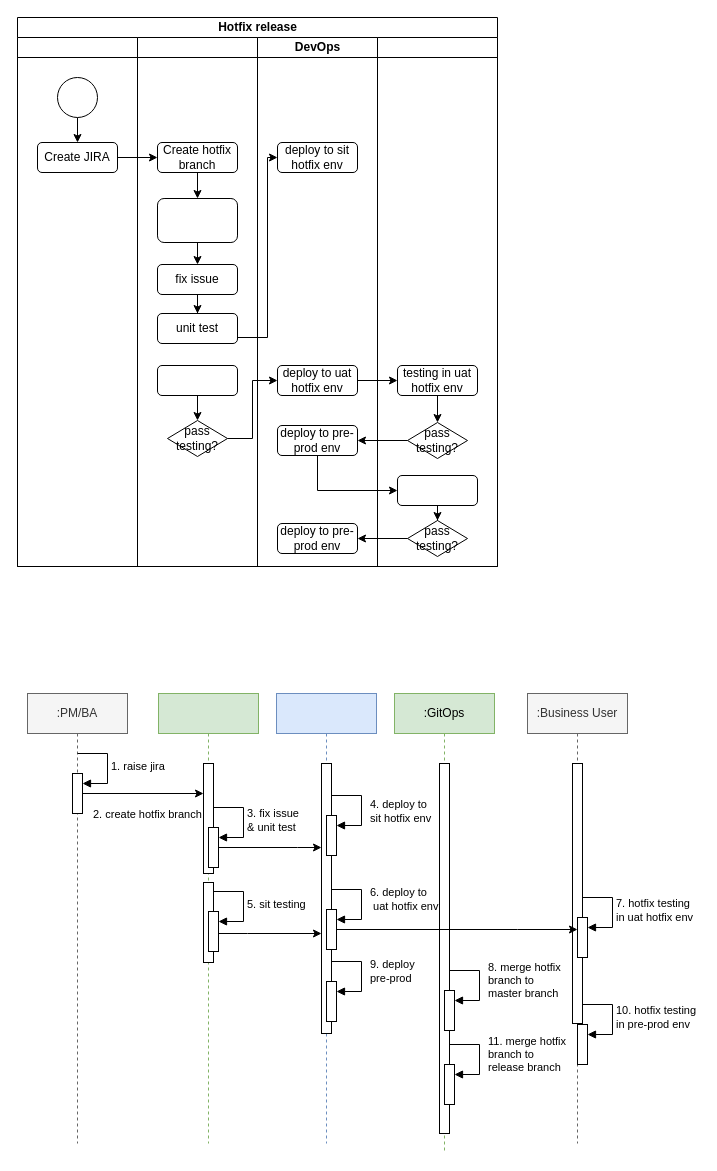
Image size: 717x1171. Some labels were removed from this diagram. The box of each missing label's shape, as (x1, y1, x2, y2) in pixels:
:Developer: (158, 692, 258, 1144)
:DevOps: (276, 692, 376, 1144)
Business User: (376, 36, 498, 566)
create new hotfix service version: (156, 198, 238, 242)
Developer: (136, 36, 258, 566)
PM/BA: (16, 36, 138, 566)
Start: (56, 76, 98, 118)
testing in pre-prod env: (396, 474, 478, 506)
testing is sit hotfix env: (156, 364, 238, 396)
